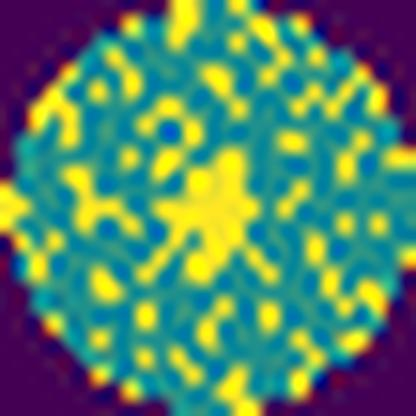Center: (132, 145, 263, 288)
